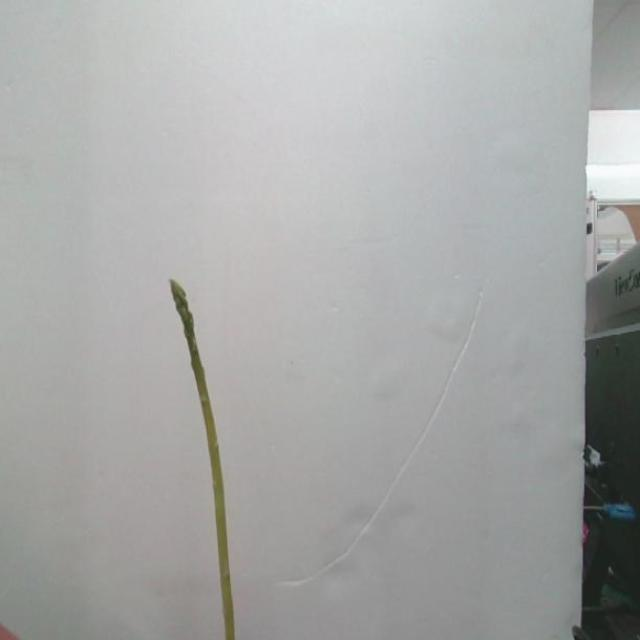aspargus: (168, 281, 237, 640)
